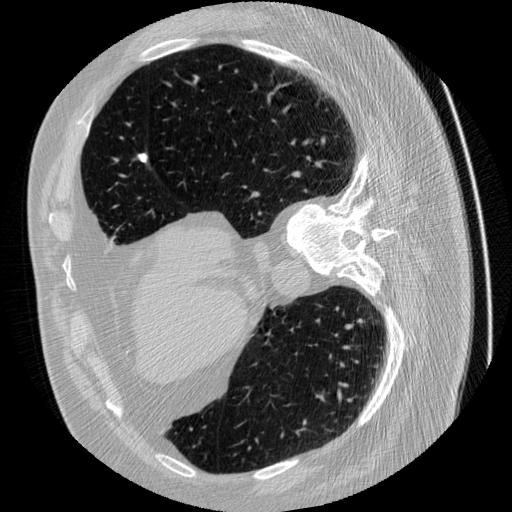nodule: (134, 148, 150, 164)
